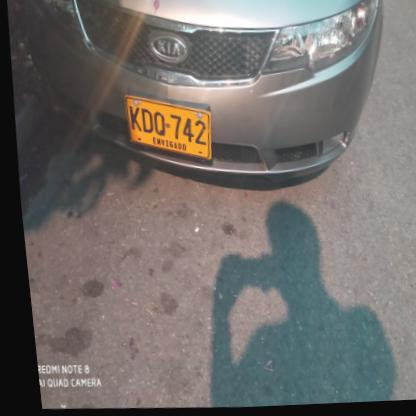placa: (113, 90, 217, 170)
